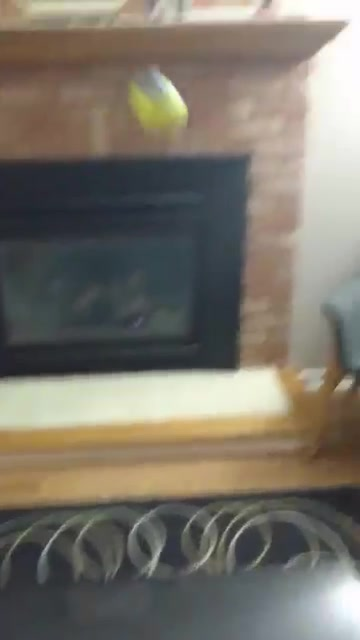tennis_ball: (122, 71, 195, 137)
